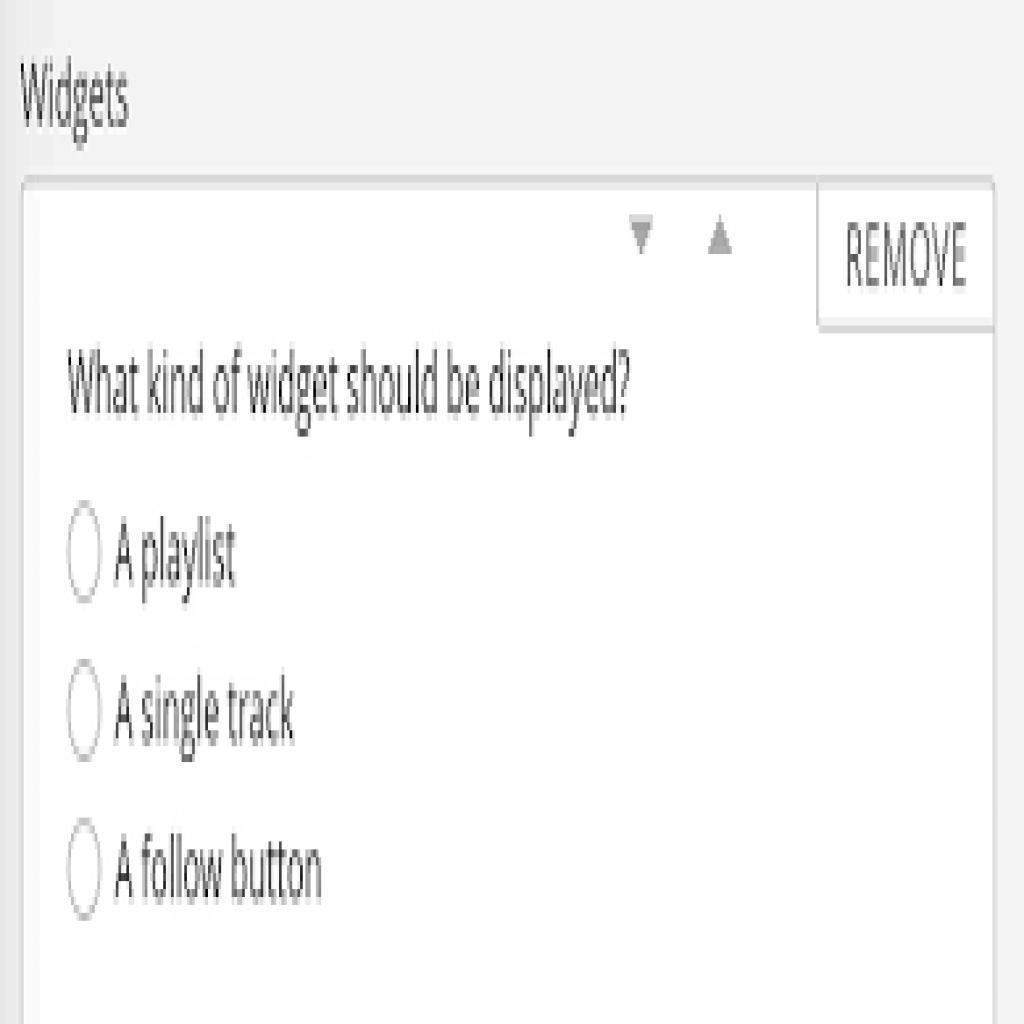button: (817, 180, 993, 332)
label: (64, 343, 637, 434), (112, 832, 330, 907), (115, 673, 301, 753), (110, 519, 249, 597)
radio: (64, 661, 109, 771), (66, 499, 107, 610), (67, 811, 106, 925)
